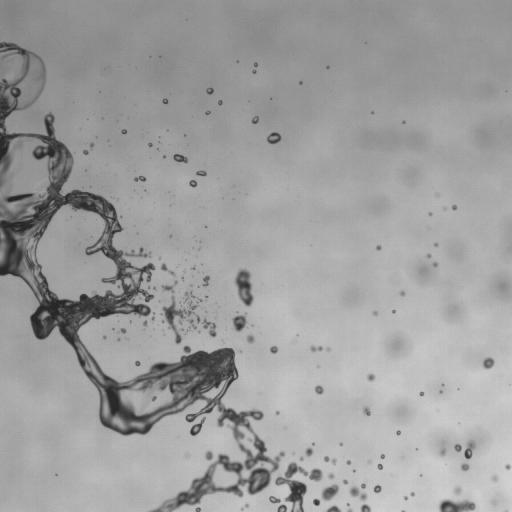droplet: (161, 290, 216, 344), (275, 462, 322, 511), (349, 483, 367, 501), (232, 313, 247, 331), (161, 281, 177, 292), (267, 132, 281, 143), (482, 357, 494, 369), (173, 154, 188, 162), (360, 503, 371, 511), (310, 345, 322, 352), (314, 385, 323, 394), (305, 447, 313, 456), (453, 486, 462, 494), (203, 275, 209, 286), (246, 335, 254, 343), (367, 373, 375, 381), (461, 463, 469, 471), (373, 485, 381, 493), (363, 406, 370, 415), (196, 170, 206, 176), (189, 180, 197, 187), (251, 116, 258, 123), (270, 346, 277, 353), (454, 444, 461, 451), (439, 448, 446, 455), (491, 475, 498, 482), (206, 88, 213, 94), (242, 503, 249, 509), (328, 473, 334, 479), (119, 328, 126, 333), (432, 262, 438, 267), (142, 321, 147, 327), (505, 464, 511, 469), (162, 98, 167, 103), (452, 205, 457, 210), (376, 245, 381, 250), (135, 361, 140, 366), (419, 391, 424, 396), (396, 430, 401, 435), (377, 464, 382, 469), (346, 508, 353, 511), (121, 129, 126, 133), (83, 150, 88, 154), (343, 479, 347, 484), (218, 100, 222, 104), (427, 253, 431, 257), (400, 291, 404, 295), (373, 311, 377, 315), (326, 347, 330, 351), (185, 453, 189, 457), (380, 454, 384, 458), (346, 460, 350, 464), (410, 492, 414, 496), (90, 143, 93, 148), (148, 143, 152, 146), (254, 63, 257, 66), (206, 111, 209, 114), (434, 243, 437, 246), (191, 266, 194, 269), (103, 335, 106, 338), (439, 390, 442, 393), (276, 411, 279, 414), (300, 457, 303, 460), (368, 460, 371, 463), (404, 496, 407, 499), (253, 70, 255, 73), (429, 212, 431, 215), (392, 310, 395, 312), (339, 443, 342, 445), (163, 156, 165, 158), (158, 257, 160, 259), (153, 287, 155, 289), (239, 350, 241, 352), (494, 501, 496, 503), (346, 503, 348, 505)
ligament: (0, 42, 284, 511), (234, 268, 254, 306), (313, 484, 338, 505), (438, 498, 475, 511), (269, 496, 286, 511), (464, 440, 475, 459), (160, 263, 175, 276), (324, 505, 341, 511), (324, 456, 336, 464), (134, 176, 146, 181)
